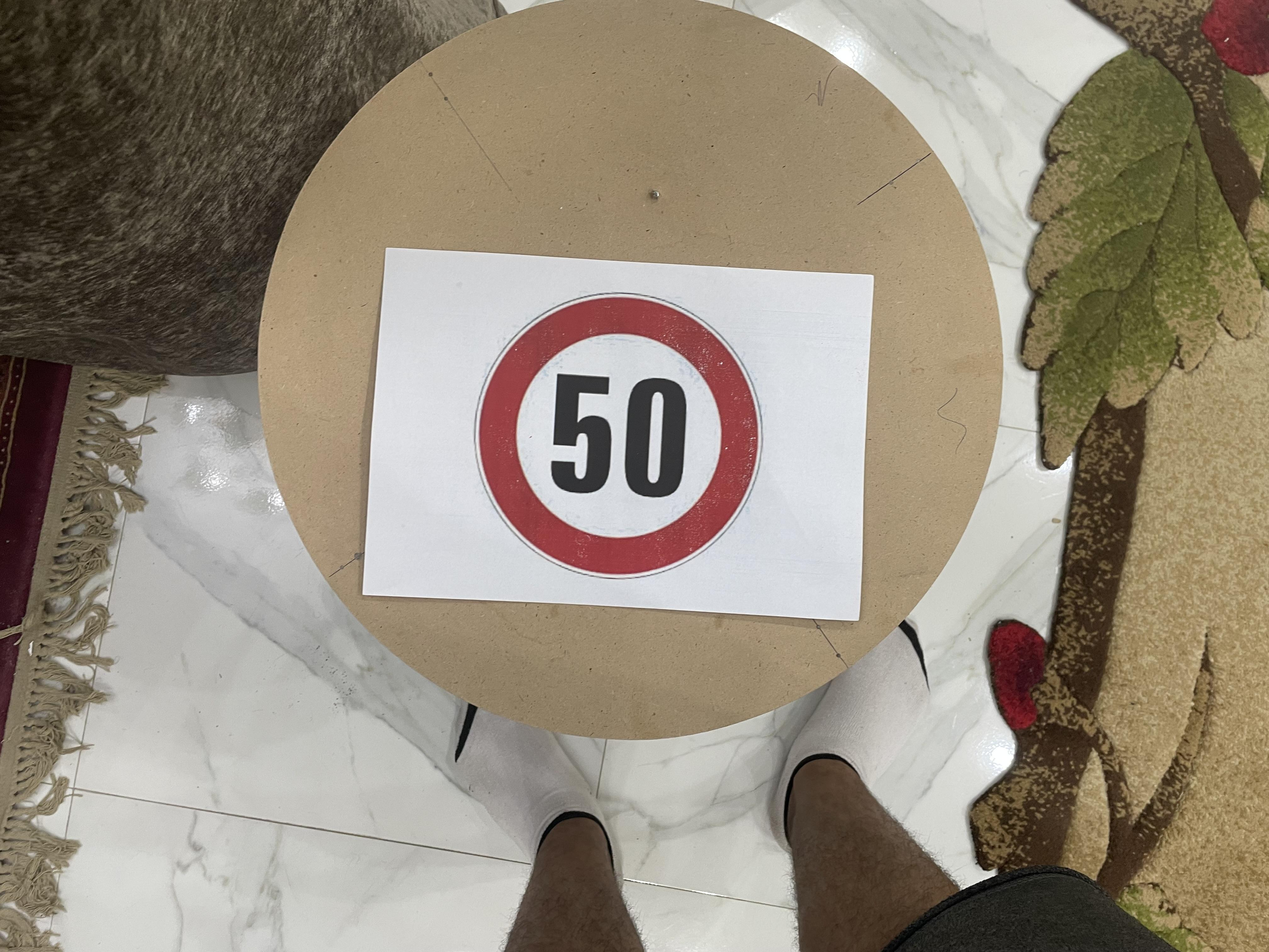50-Speed: (496, 355, 892, 577)
